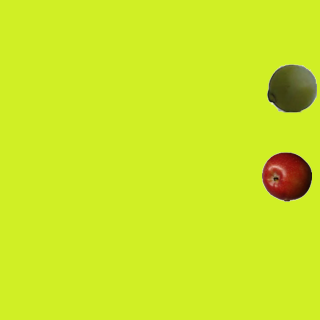Apple Braeburn: (261, 151, 311, 201)
Grape White 4: (266, 62, 316, 112)
